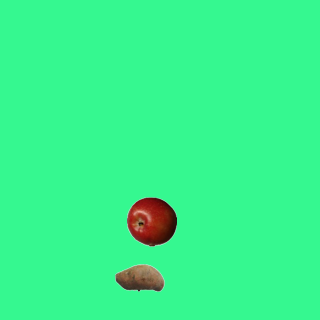Apple Braeburn: (126, 196, 176, 246)
Potato Sweet: (114, 252, 164, 302)
